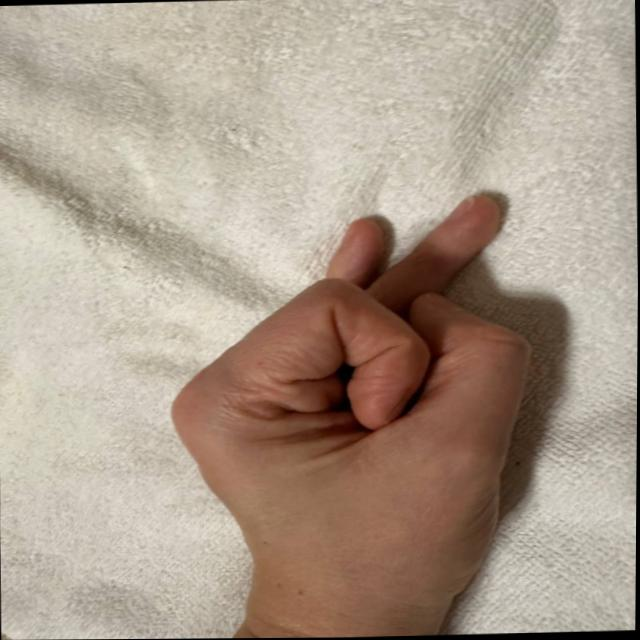i-: (161, 184, 569, 560)
